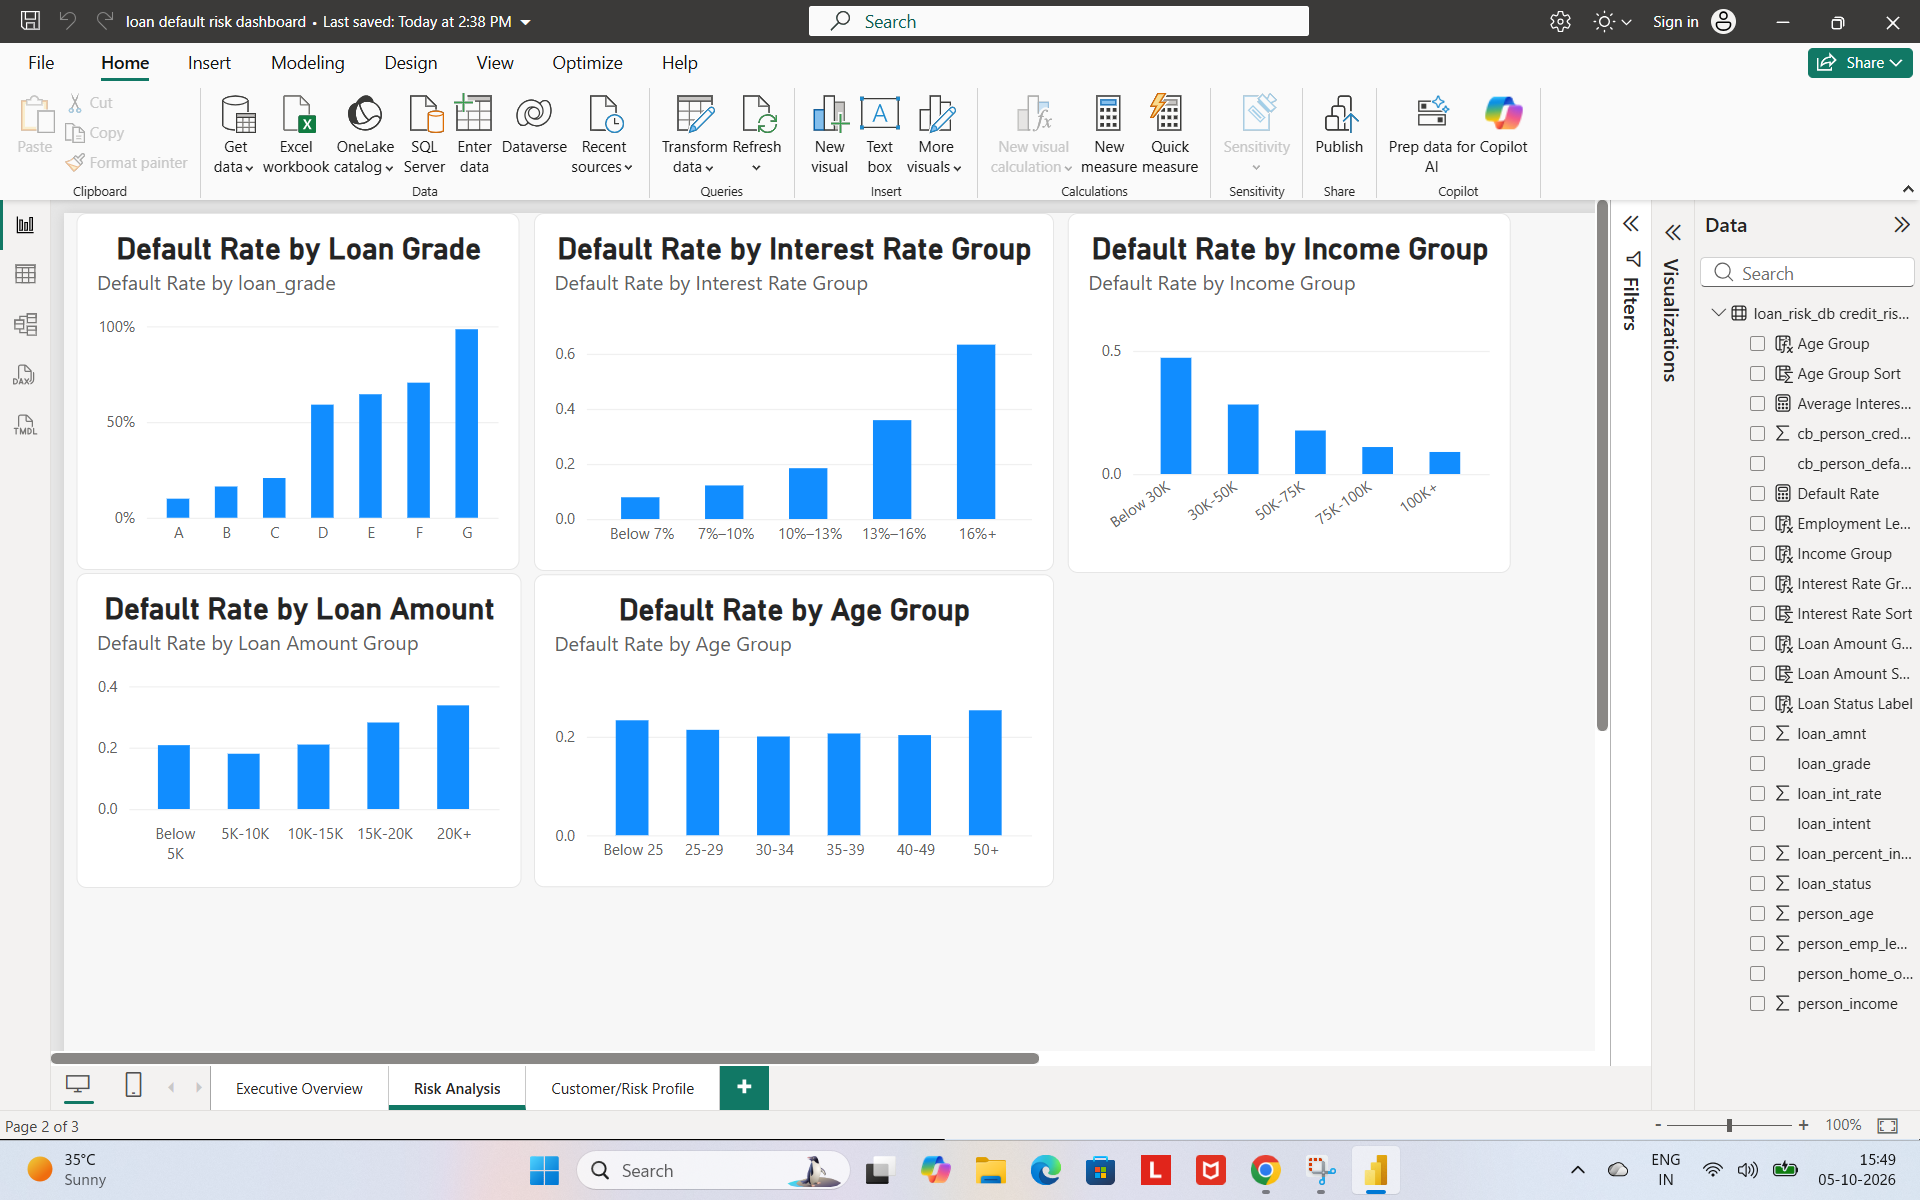

What the dashboard file says about the page in this screenshot:
{"tool":"powerbi","page":{"name":"Risk Analysis","canvas":[1920,1080],"ordinal":1},"visuals":[{"type":"clusteredColumnChart","title":"Default Rate by Loan Grade","fields":{"Category":["loan_risk_db credit_risk_clean.loan_grade"],"Y":["loan_risk_db credit_risk_clean.Default Rate"]},"box":[10,0,355,286.2],"z":0},{"type":"clusteredColumnChart","title":"Default Rate by Interest Rate Group","fields":{"Category":["loan_risk_db credit_risk_clean.Interest Rate Group"],"Y":["loan_risk_db credit_risk_clean.Default Rate"]},"box":[375.6,0,416.7,286.7],"z":1000},{"type":"clusteredColumnChart","title":"Default Rate by Income Group","fields":{"Category":["loan_risk_db credit_risk_clean.Income Group"],"Y":["loan_risk_db credit_risk_clean.Default Rate"]},"box":[803.3,0,355,287.5],"z":2000},{"type":"clusteredColumnChart","title":"Default Rate by Loan Amount","fields":{"Category":["loan_risk_db credit_risk_clean.Loan Amount Group"],"Y":["loan_risk_db credit_risk_clean.Default Rate"]},"box":[10,287.8,355.6,252.2],"z":3000},{"type":"clusteredColumnChart","title":"Default Rate by Age Group","fields":{"Category":["loan_risk_db credit_risk_clean.Age Group"],"Y":["loan_risk_db credit_risk_clean.Default Rate"]},"box":[375.6,288.9,416.7,251.1],"z":3001}]}

Visuals, with their boxes on the page's 1920x1080 design canvas (x1, y1, x2, y2). These are canvas units, not pixel positions in the 1920x1200 screenshot, which may show the page scaled, cropped or inside an application window:
"Default Rate by Loan Grade" clusteredColumnChart: Rect(10, 0, 365, 286)
"Default Rate by Interest Rate Group" clusteredColumnChart: Rect(376, 0, 792, 287)
"Default Rate by Income Group" clusteredColumnChart: Rect(803, 0, 1158, 288)
"Default Rate by Loan Amount" clusteredColumnChart: Rect(10, 288, 366, 540)
"Default Rate by Age Group" clusteredColumnChart: Rect(376, 289, 792, 540)
